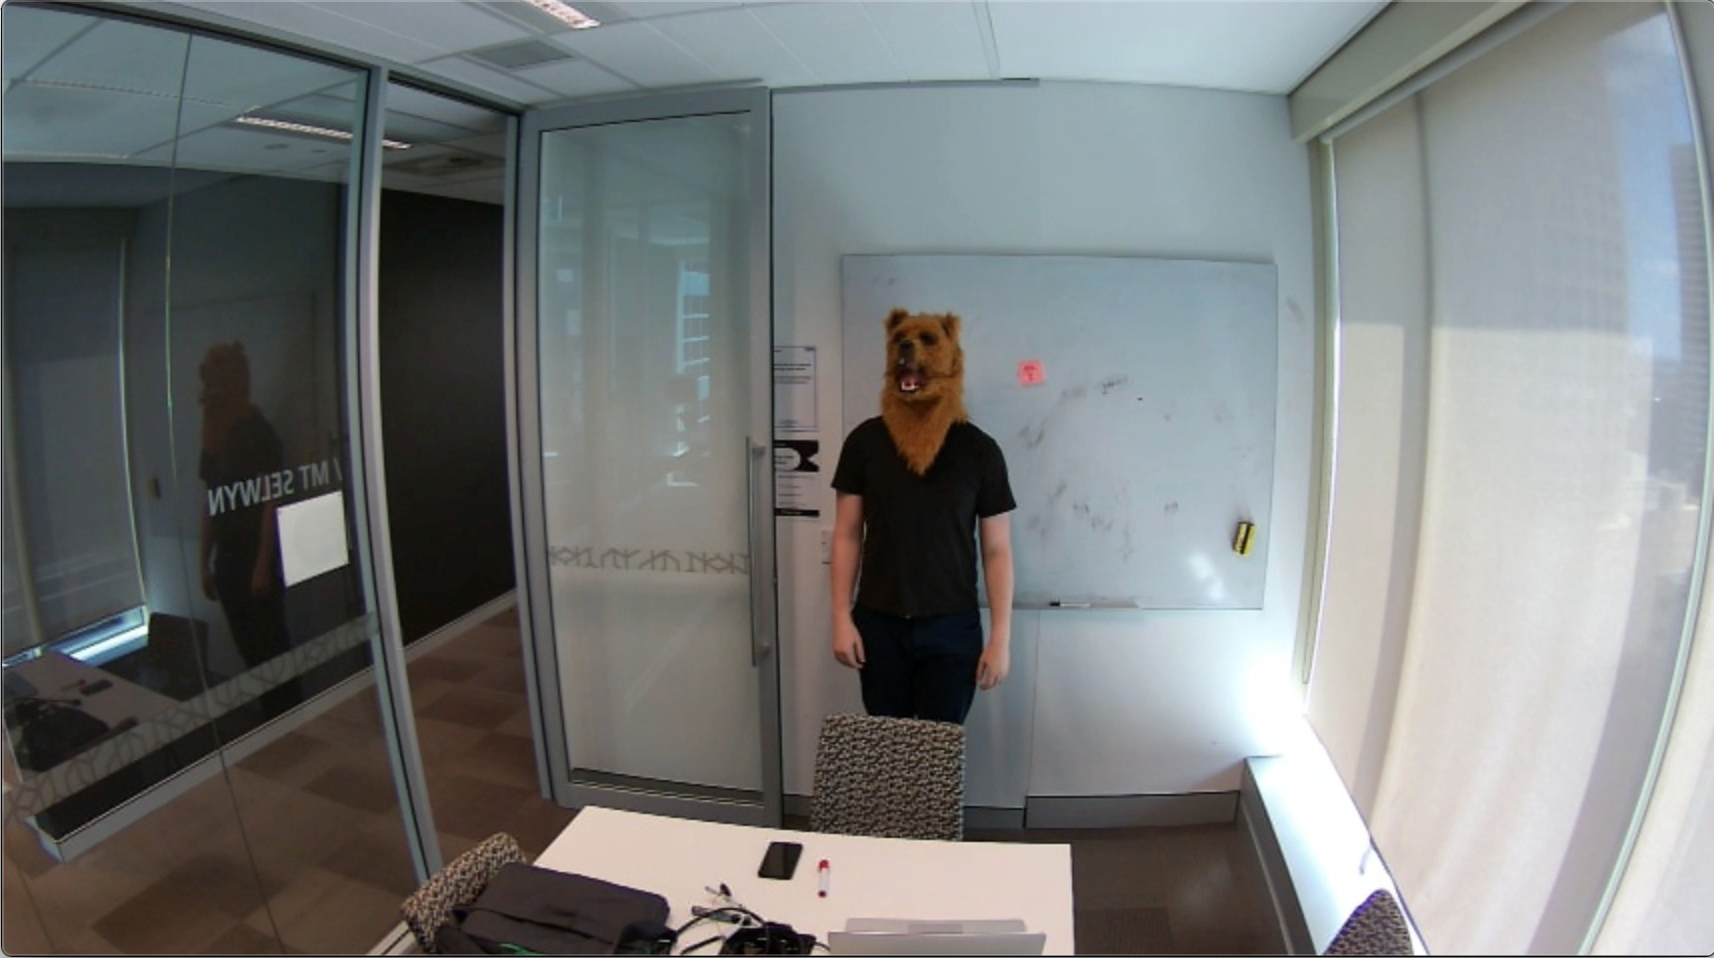Bear: (879, 302, 968, 423)
